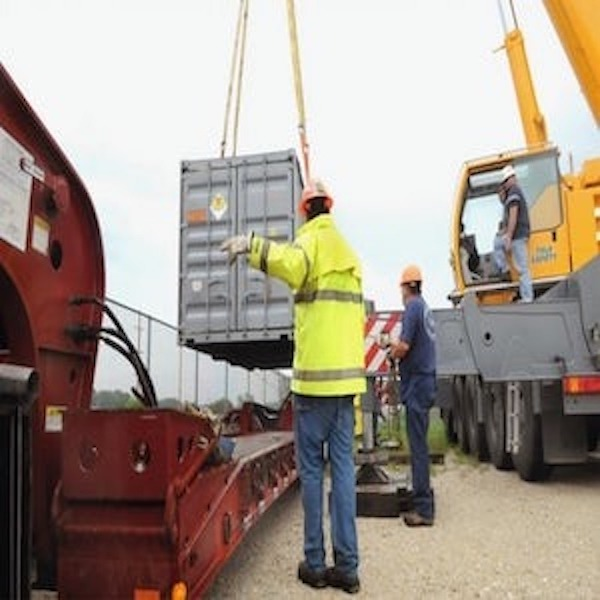helmet: (299, 179, 336, 208), (401, 266, 427, 287)
vest: (287, 220, 368, 393)
